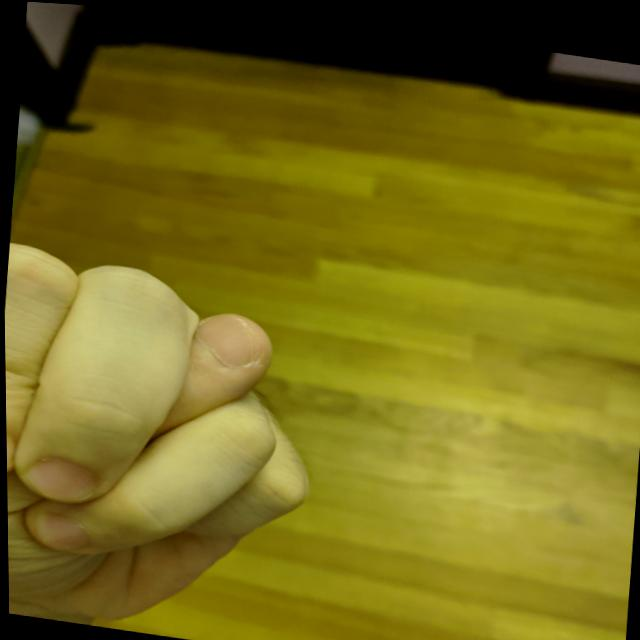N: (2, 232, 341, 639)
